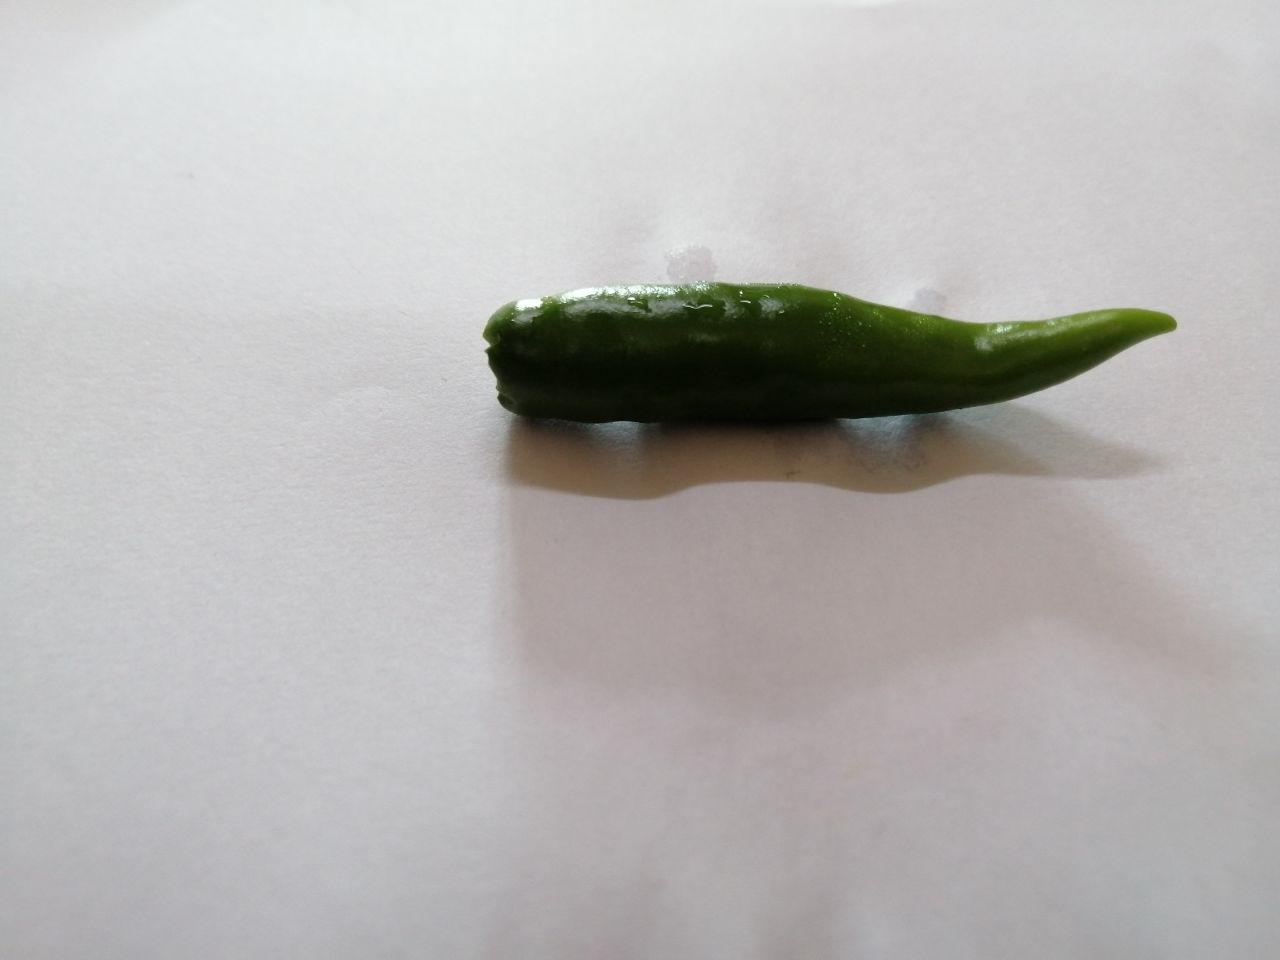lada hijau: (475, 249, 1202, 497)
